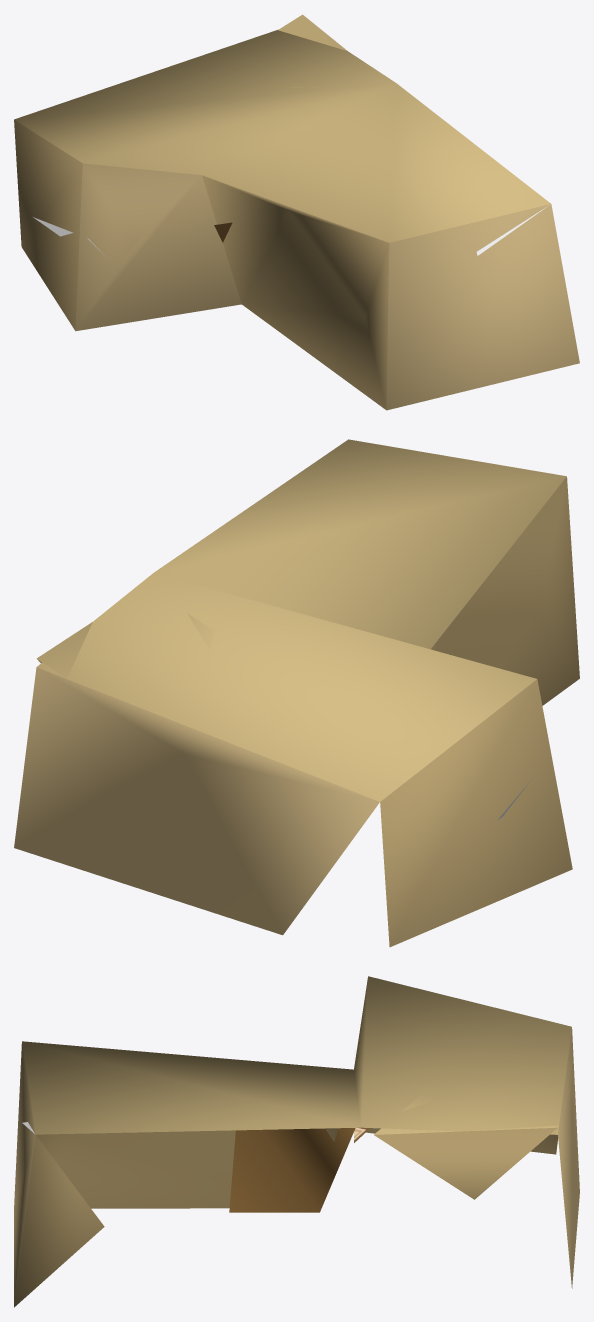
The model's file is DHouse2.fbx.
The picture shows the model from 3 angles, top to bottom: view 1: azimuth 30°, elevation 25°; view 2: azimuth 150°, elevation 25°; view 3: azimuth 270°, elevation 25°; orthographic projection. The views are drawn at different scales.
Visible parts, largest first — view 1: MHouse3_cell.011, MHouse3_cell.015; view 2: MHouse3_cell.011, MHouse3_cell.015; view 3: MHouse3_cell.011, MHouse3_cell.010, MHouse3_cell.015.
Boxes of the visible parts, left/top/right/bottom form: MHouse3_cell.011: left=14, top=30, right=579, bottom=410; MHouse3_cell.015: left=278, top=14, right=347, bottom=87; MHouse3_cell.011: left=14, top=439, right=579, bottom=947; MHouse3_cell.015: left=36, top=613, right=215, bottom=678; MHouse3_cell.011: left=14, top=976, right=579, bottom=1307; MHouse3_cell.010: left=229, top=1128, right=355, bottom=1212; MHouse3_cell.015: left=374, top=1095, right=558, bottom=1199.
Size of the model in its own units: 2.32 by 1.05 by 3.14.
